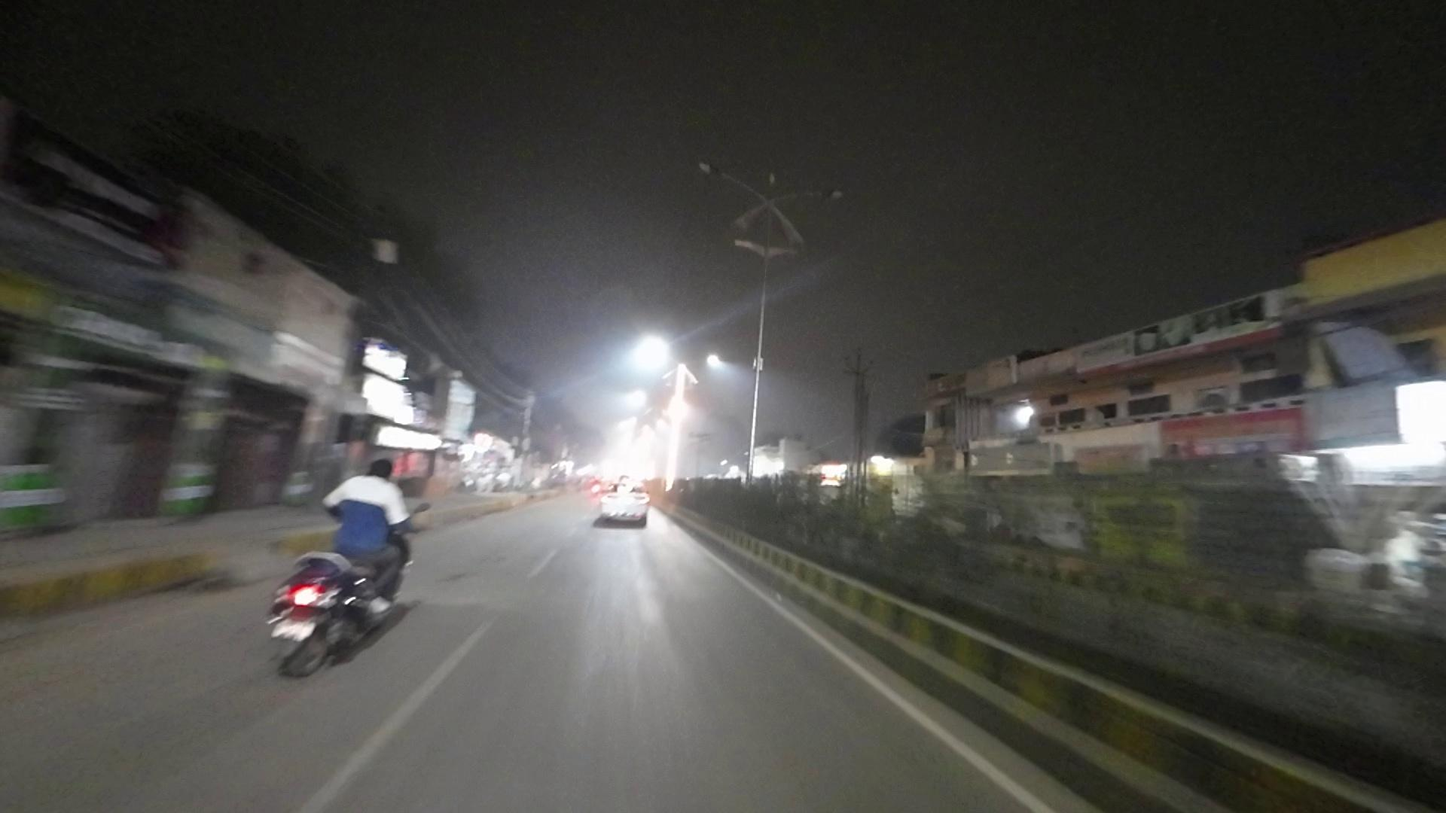streetlight: (695, 160, 766, 203), (780, 184, 846, 209)
